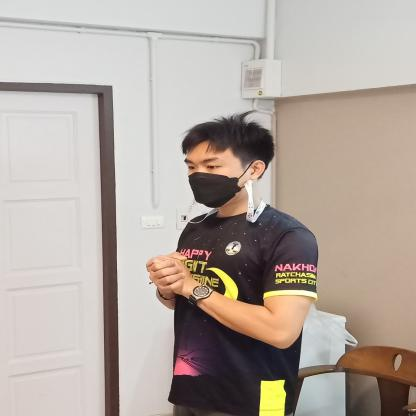Grieve: (138, 251, 312, 353)
